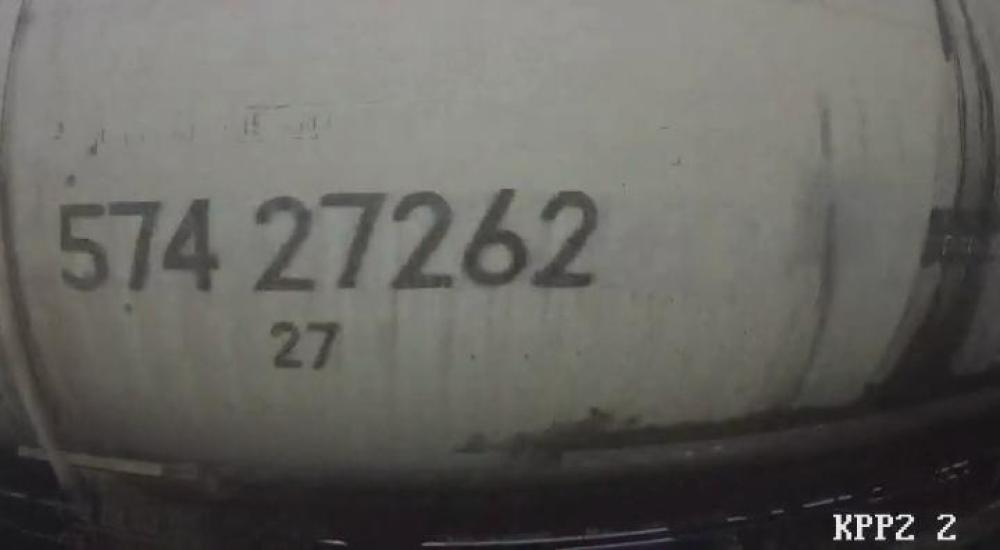Wagon-number: (49, 183, 605, 295)
